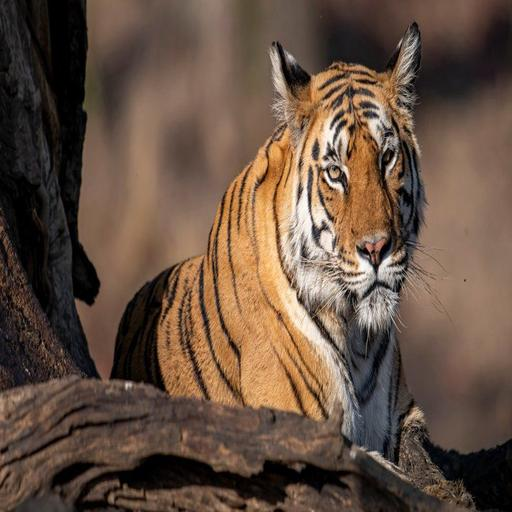Tiger: (96, 13, 430, 493)
